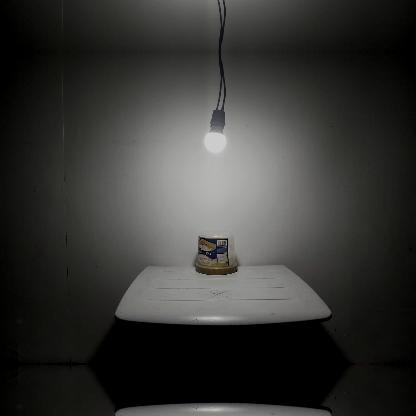Lady-s-Choice: (196, 230, 236, 274)
